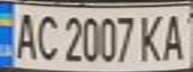0: (78, 12, 100, 64), (100, 12, 118, 63)
2: (60, 11, 84, 64)
7: (115, 12, 139, 63)
A: (160, 9, 190, 62), (9, 9, 39, 61)
C: (33, 10, 60, 62)
K: (136, 11, 169, 63)
